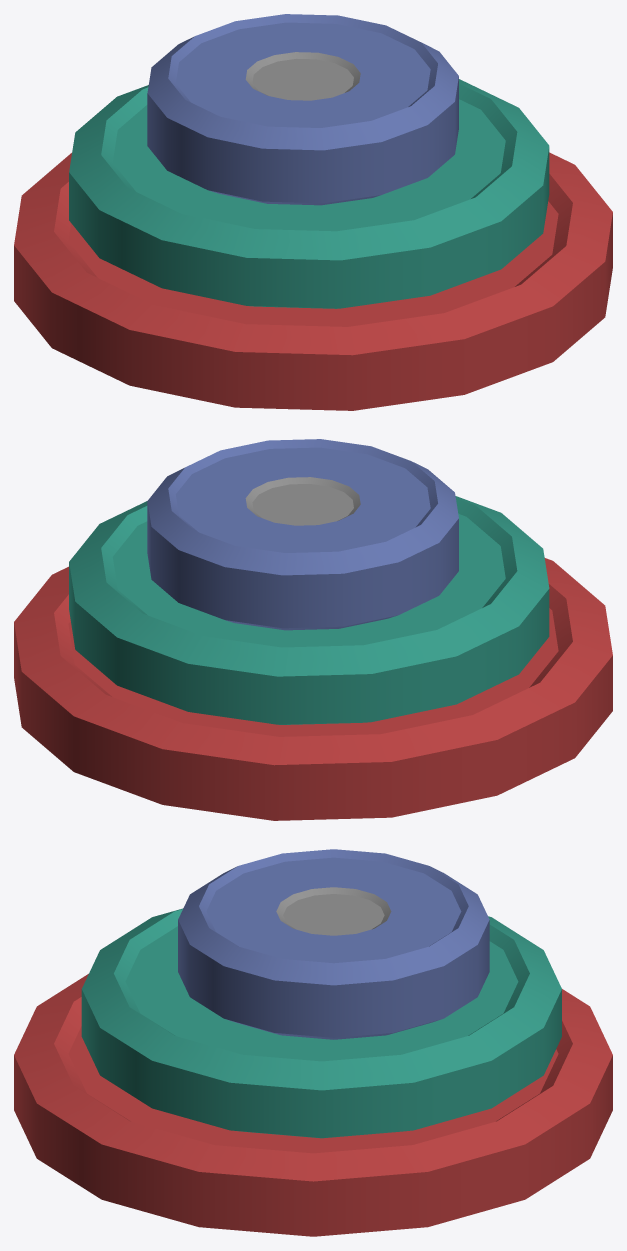
Rendered from barbells.fbx.
3 views of the same model, one above another, from view 1: azimuth 30°, elevation 25°; view 2: azimuth 150°, elevation 25°; view 3: azimuth 270°, elevation 25° (orthographic).
Visible parts, largest first — view 1: Hypercasual_Gym_Weight2; view 2: Hypercasual_Gym_Weight2; view 3: Hypercasual_Gym_Weight2.
Boxes of the visible parts, x1,y1,x2,y2 form: Hypercasual_Gym_Weight2: (14,14,612,410); Hypercasual_Gym_Weight2: (14,439,612,820); Hypercasual_Gym_Weight2: (14,849,612,1236).
Size of the model in its own units: 0.9298 by 0.3673 by 0.9298.
